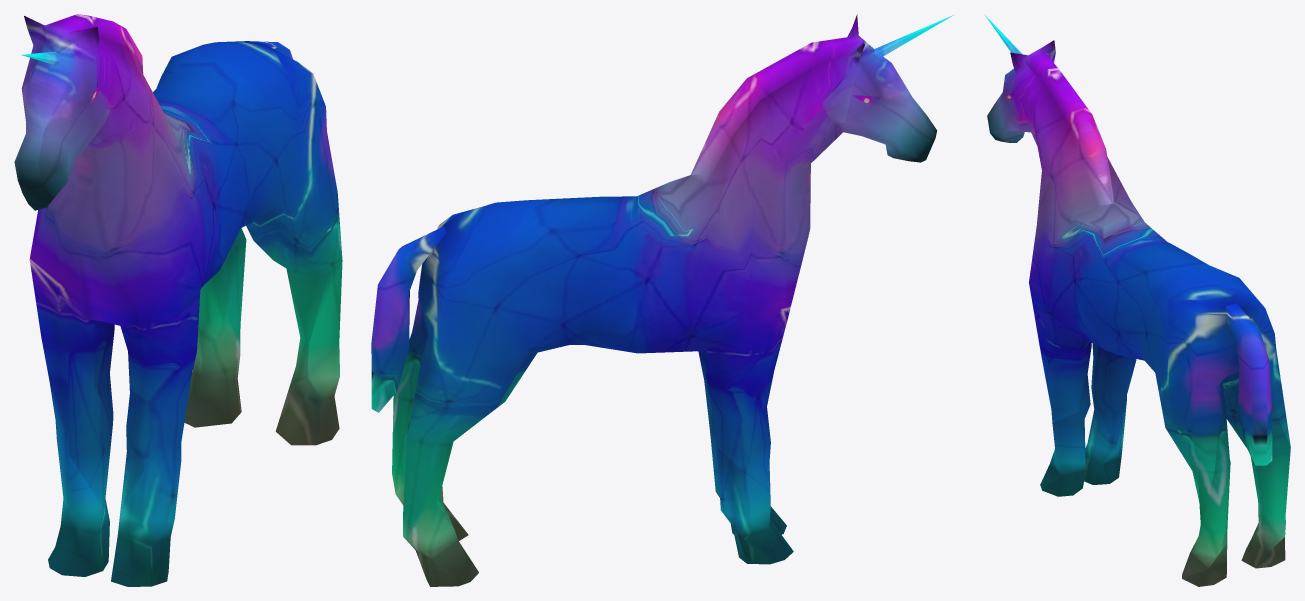
File: R3unicorn.glb
3 renders of one model, left to right at view 1: azimuth 30°, elevation 25°; view 2: azimuth 150°, elevation 25°; view 3: azimuth 270°, elevation 25°, orthographic. The views are drawn at different scales.
Parts seen in each view (by area): view 1: horn; view 2: horn; view 3: horn.
Boxes of the visible parts, x1=… form: horn: x1=14, y1=14, x2=342, y2=586; horn: x1=371, y1=14, x2=953, y2=586; horn: x1=984, y1=14, x2=1290, y2=586.
Bounding box in the file's own units: 3.82 × 4.57 × 3.03.
Materials: 1 (1 with a texture image).
